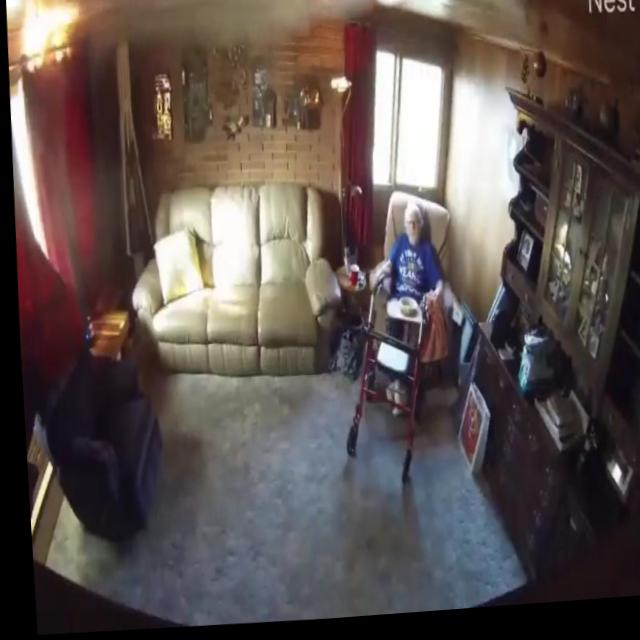fire: (17, 0, 85, 74)
